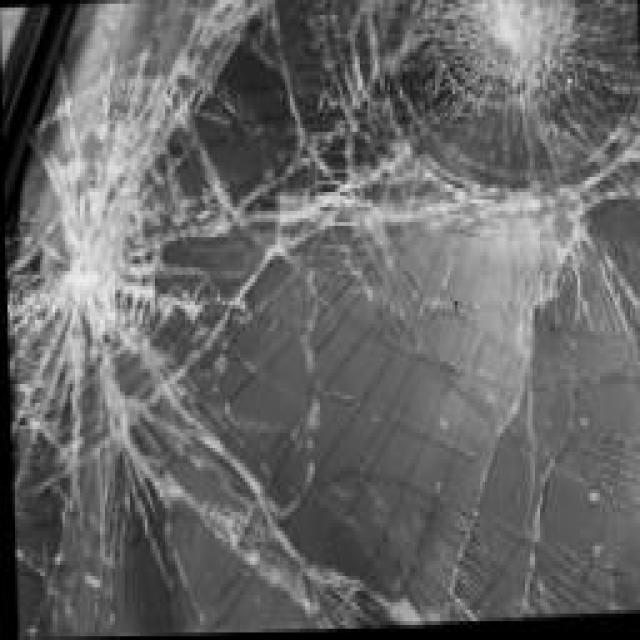Windshield: (4, 0, 640, 640)
